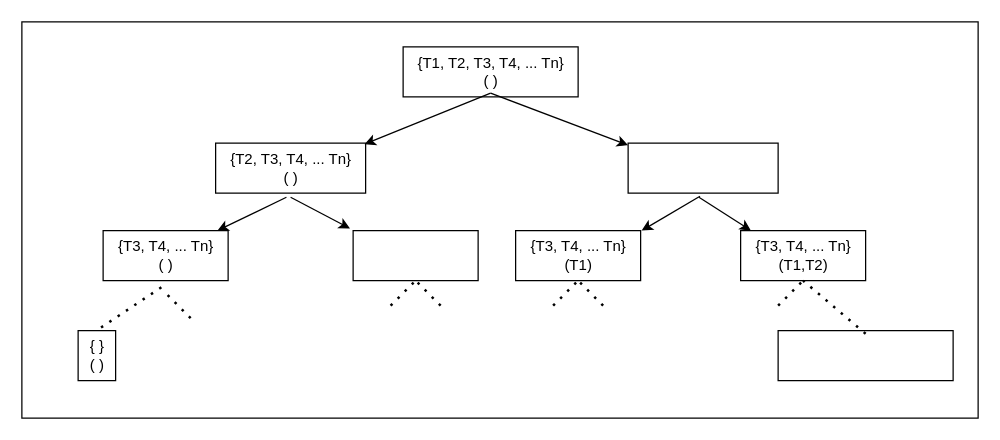
The diagram is 1000 pixels wide and 440 high, and some of its shapes have lost their labels. The centre of each missing label's shape, as x and y in pixels:
{ } (T1, T2, T3, T4, ... Tn): the point at 865,355
{T2, T3, T4, ... Tn} (T1): the point at 702,167
{T3, T4, ... Tn} (T2): the point at 415,255
